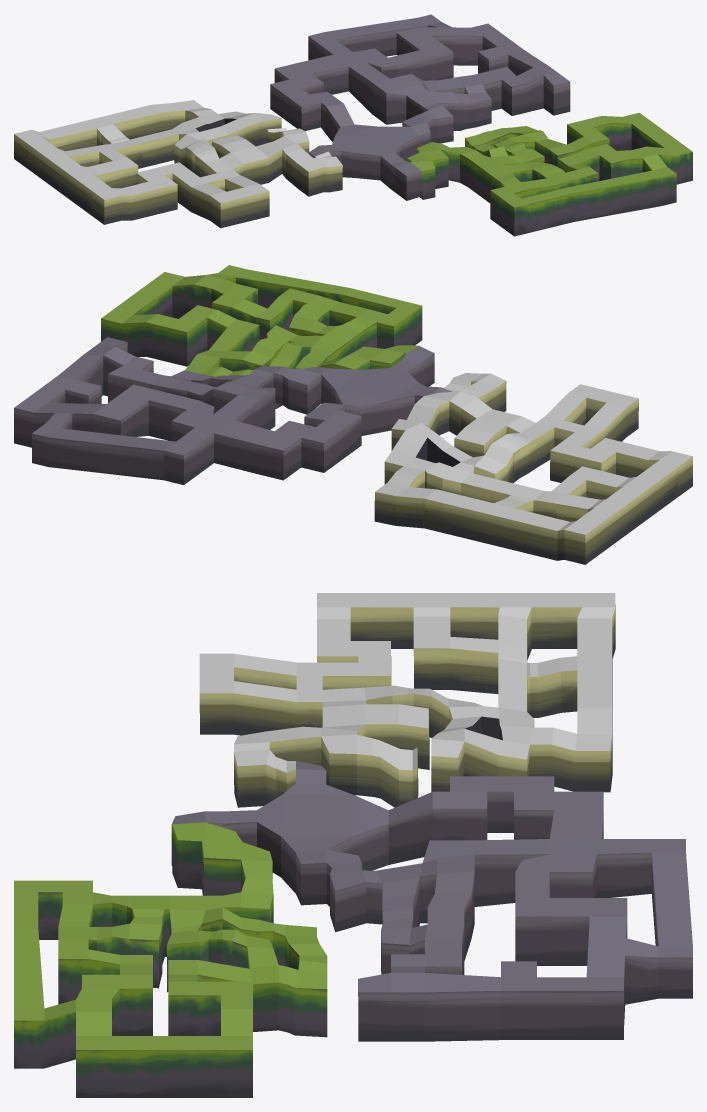
File: mapredo.fbx
3 views of the same model, one above another, from view 1: azimuth 30°, elevation 25°; view 2: azimuth 150°, elevation 25°; view 3: azimuth 270°, elevation 25° (orthographic). The views are drawn at different scales.
Visible parts, largest first — view 1: polySurface106, polySurface118, polySurface123, polySurface125, polySurface107, polySurface105, polySurface110, polySurface109, polySurface108, polySurface113, polySurface111, polySurface115 (+1 smaller); view 2: polySurface106, polySurface123, polySurface118, polySurface125, polySurface110, polySurface109, polySurface105, polySurface113, polySurface107, polySurface108, polySurface111, polySurface115 (+3 smaller); view 3: polySurface106, polySurface118, polySurface123, polySurface125, polySurface109, polySurface105, polySurface107, polySurface110, polySurface113, polySurface108, polySurface115, polySurface111 (+4 smaller).
Part boxes in pixels (bbox=[...]): polySurface106: bbox=[14, 36, 692, 236]; polySurface118: bbox=[270, 14, 569, 175]; polySurface123: bbox=[14, 100, 342, 203]; polySurface125: bbox=[407, 112, 692, 207]; polySurface107: bbox=[368, 35, 532, 80]; polySurface105: bbox=[302, 66, 427, 126]; polySurface110: bbox=[93, 134, 216, 188]; polySurface109: bbox=[504, 123, 663, 172]; polySurface108: bbox=[514, 155, 651, 198]; polySurface113: bbox=[335, 25, 436, 56]; polySurface111: bbox=[114, 110, 198, 139]; polySurface115: bbox=[42, 128, 111, 151]; polySurface106: bbox=[14, 306, 692, 564]; polySurface123: bbox=[375, 373, 692, 534]; polySurface118: bbox=[14, 337, 452, 455]; polySurface125: bbox=[101, 265, 421, 376]; polySurface110: bbox=[473, 427, 659, 483]; polySurface109: bbox=[134, 284, 324, 351]; polySurface105: bbox=[234, 373, 342, 429]; polySurface113: bbox=[61, 400, 194, 441]; polySurface107: bbox=[48, 355, 237, 414]; polySurface108: bbox=[225, 277, 395, 314]; polySurface111: bbox=[409, 471, 510, 502]; polySurface115: bbox=[514, 500, 593, 521]; polySurface106: bbox=[14, 605, 692, 1097]; polySurface118: bbox=[172, 761, 692, 992]; polySurface123: bbox=[199, 593, 615, 772]; polySurface125: bbox=[14, 822, 327, 1049]; polySurface109: bbox=[88, 909, 249, 1035]; polySurface105: bbox=[327, 791, 553, 870]; polySurface107: bbox=[425, 854, 589, 974]; polySurface110: bbox=[322, 607, 498, 693]; polySurface113: bbox=[549, 852, 658, 946]; polySurface108: bbox=[38, 892, 119, 1004]; polySurface115: bbox=[527, 607, 581, 662]; polySurface111: bbox=[527, 670, 577, 727].
Bounding box in the file's own units: 948 × 121 × 653.
